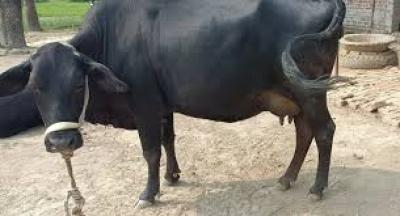buffalo: (0, 0, 347, 216)
